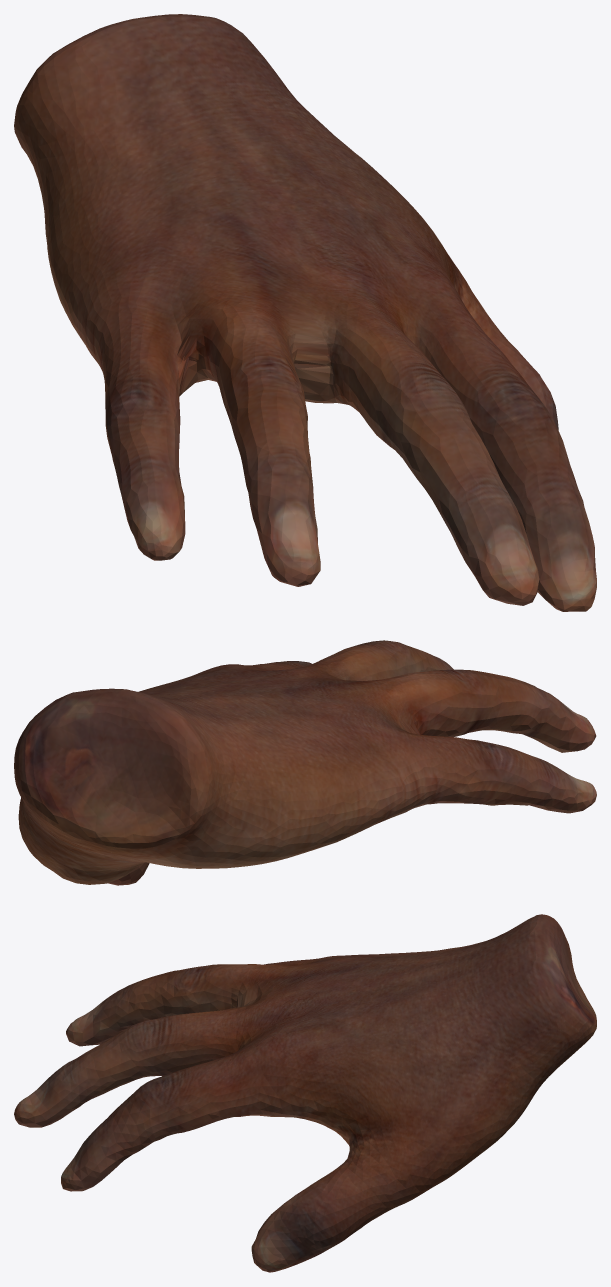
The model's file is rand_1_skin.obj.
3 renders of one model, top to bottom at view 1: azimuth 30°, elevation 25°; view 2: azimuth 150°, elevation 25°; view 3: azimuth 270°, elevation 25°, orthographic. The views are drawn at different scales.
Size of the model in its own units: 127 by 97.66 by 185.
Materials: 1 (1 with a texture image).
